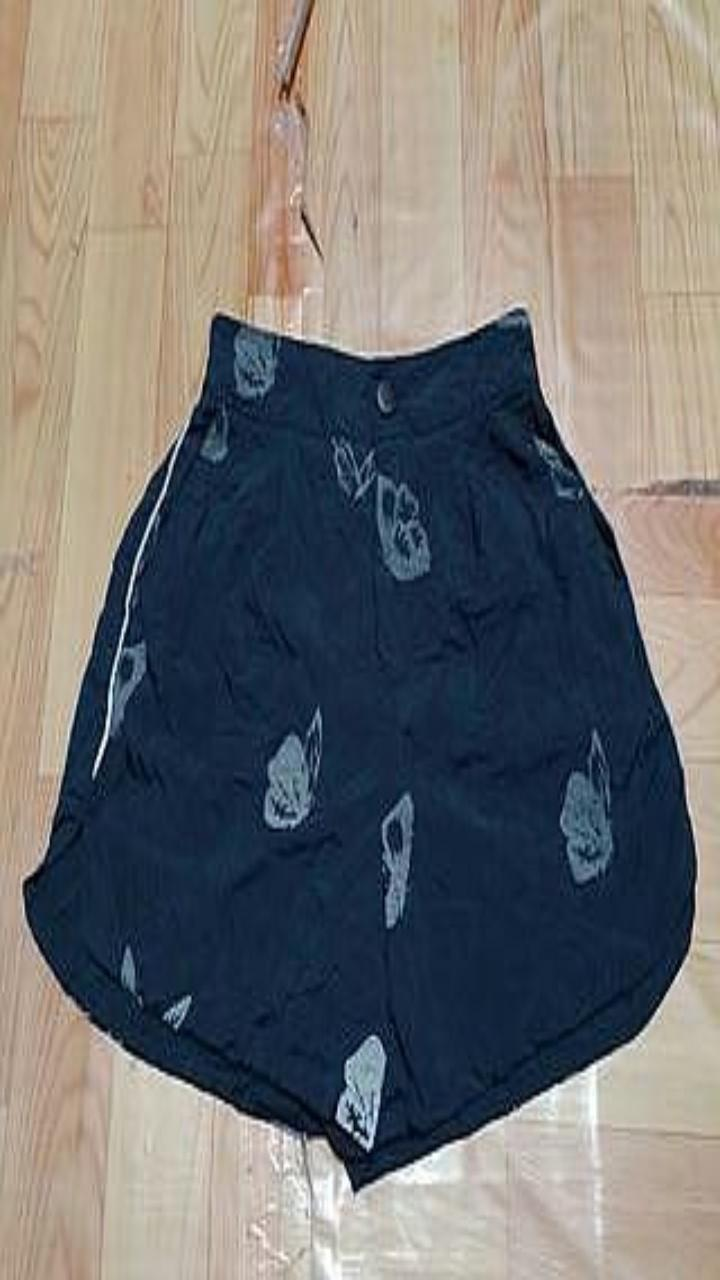Shorts: (23, 307, 695, 1190)
